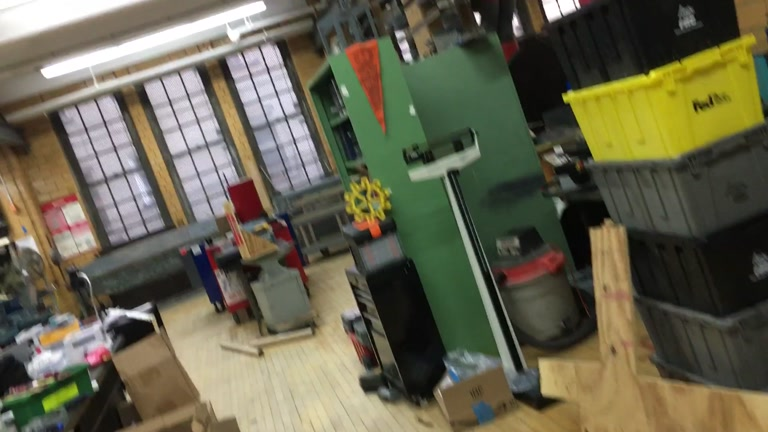gear: (344, 175, 392, 223)
